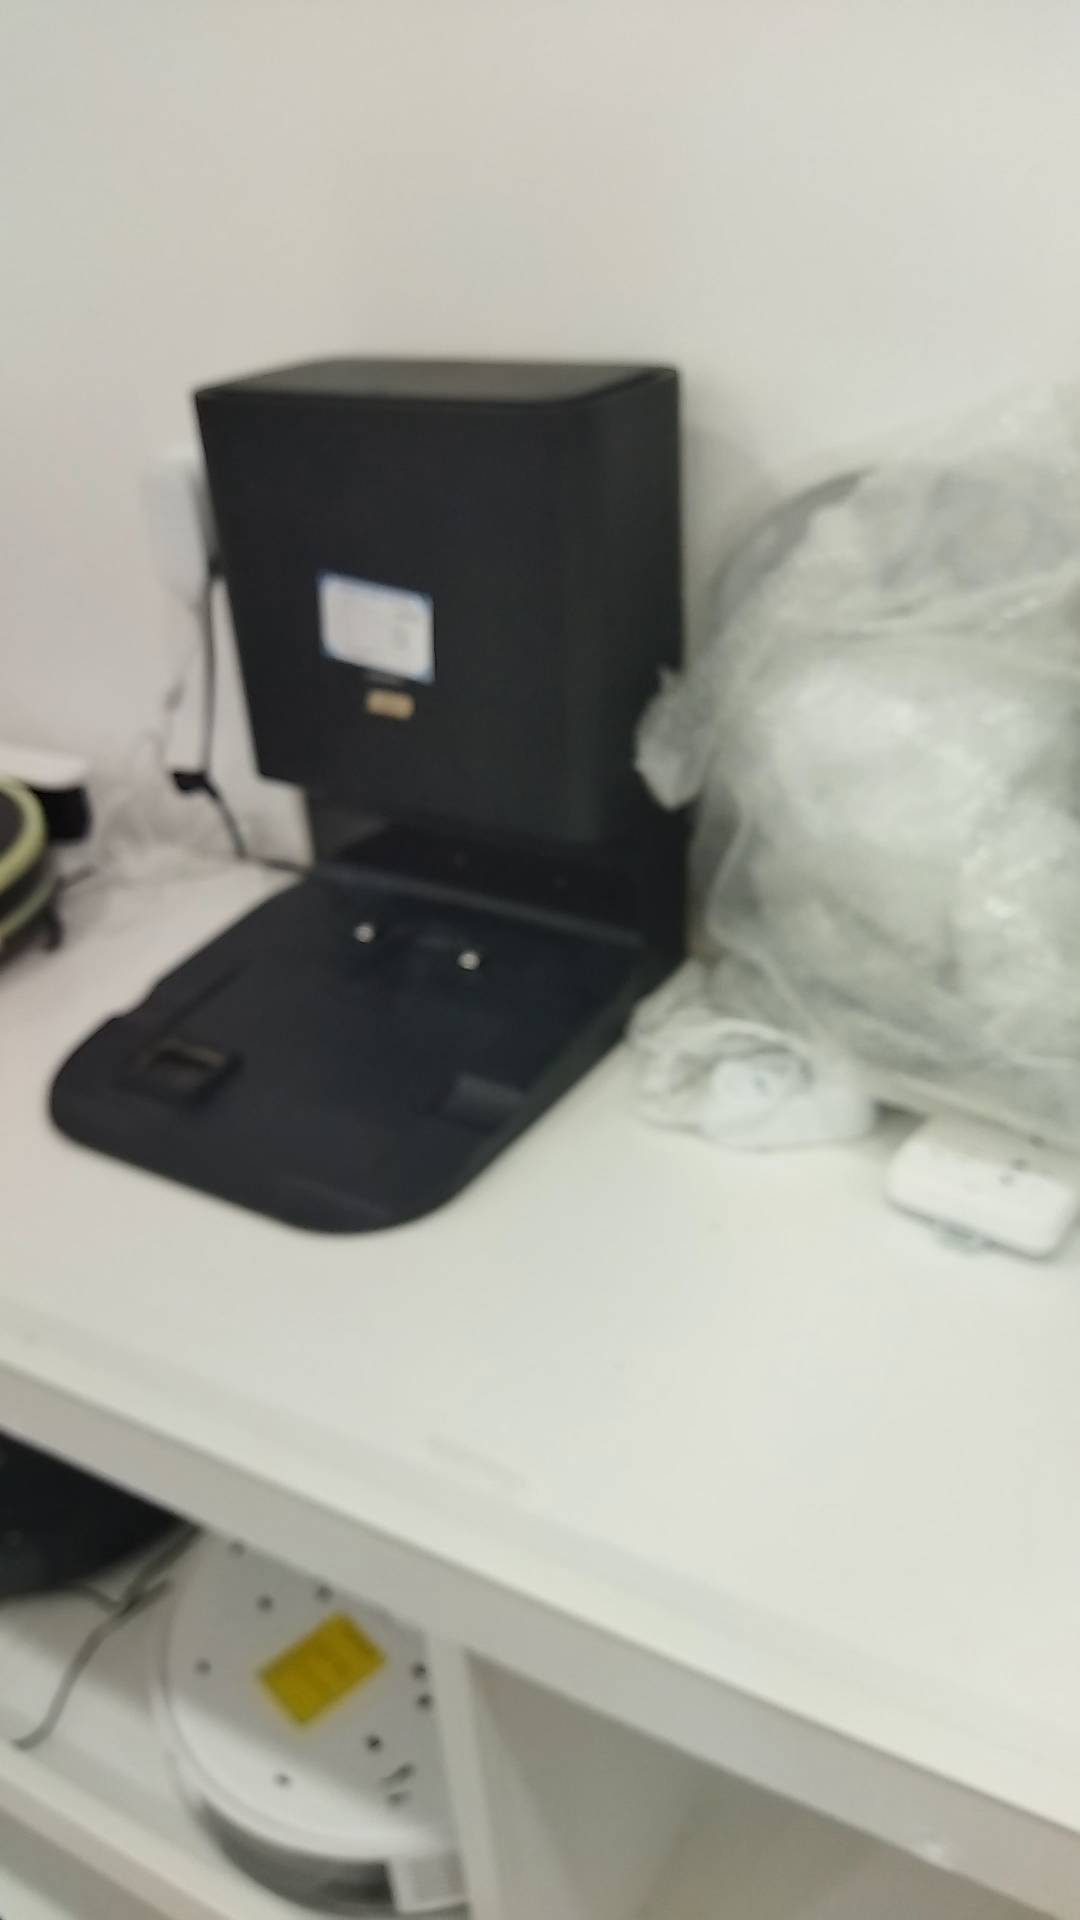dust collecting barrel: (54, 353, 695, 1237)
